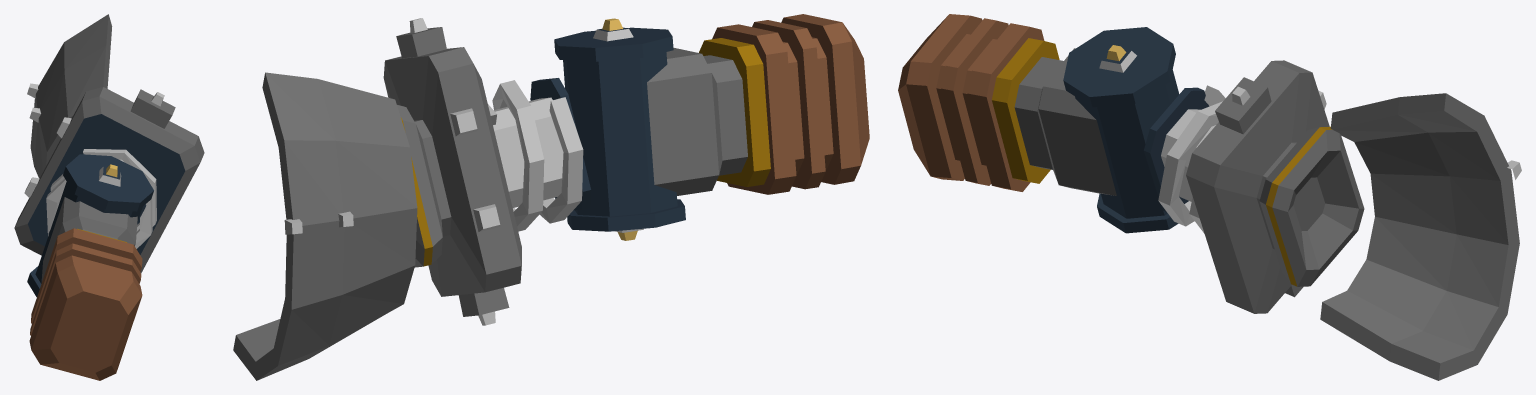
Rendered from mechanical-thumb-d1df6f.glb.
3 renders of one model, left to right at view 1: azimuth 30°, elevation 25°; view 2: azimuth 150°, elevation 25°; view 3: azimuth 270°, elevation 25°, orthographic. The views are drawn at different scales.
Visible parts, largest first — view 1: thumb-phalanx-distal, thumb-phalanx-proximal, thumb-metacarpal; view 2: thumb-phalanx-distal, thumb-phalanx-proximal, thumb-metacarpal; view 3: thumb-phalanx-distal, thumb-metacarpal, thumb-phalanx-proximal.
Part boxes in pixels (box(x1,y1,x2,y2)): thumb-phalanx-distal: box(27, 154, 153, 380); thumb-phalanx-proximal: box(14, 87, 204, 273); thumb-metacarpal: box(27, 14, 112, 178); thumb-phalanx-distal: box(554, 14, 869, 240); thumb-phalanx-proximal: box(383, 18, 590, 325); thumb-metacarpal: box(233, 72, 417, 380); thumb-phalanx-distal: box(898, 14, 1179, 233); thumb-metacarpal: box(1320, 93, 1521, 380); thumb-phalanx-proximal: box(1144, 60, 1364, 313).
Bounding box in the file's own units: 0.0506 × 0.0369 × 0.0757.
